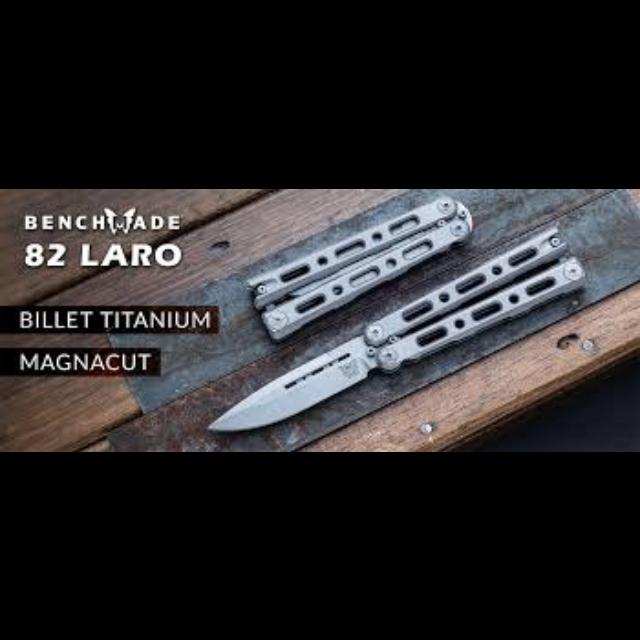knife: (205, 221, 587, 431)
